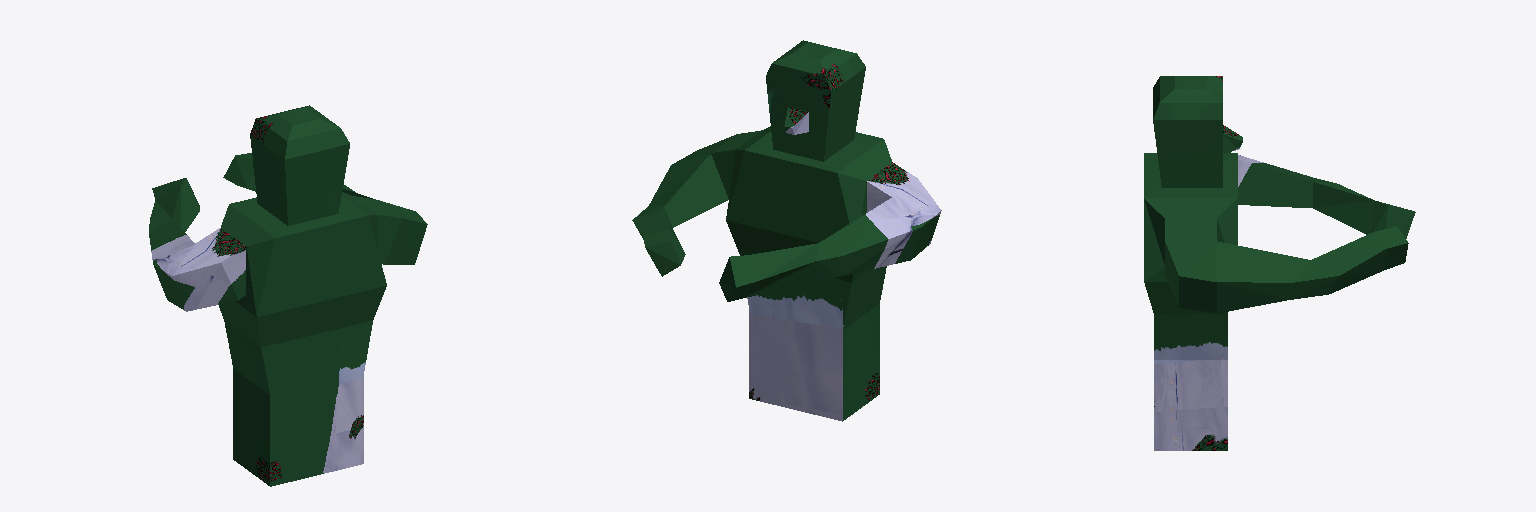
3 views of the same model, side by side, from view 1: azimuth 30°, elevation 25°; view 2: azimuth 150°, elevation 25°; view 3: azimuth 270°, elevation 25° (orthographic).
Parts seen in each view (by area): view 1: Zombie; view 2: Zombie; view 3: Zombie.
Part boxes in pixels (x1,y1,x2,y2): Zombie: (149, 105, 427, 486); Zombie: (632, 40, 941, 421); Zombie: (1144, 76, 1415, 450).
Bounding box in the file's own units: 1.57 × 2.01 × 1.44.
1 materials, 1 textured.